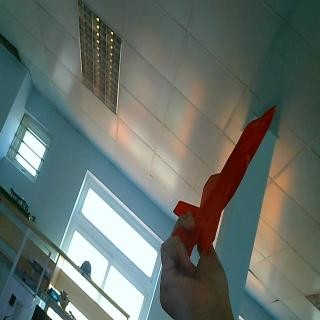Jet: (172, 101, 275, 252)
